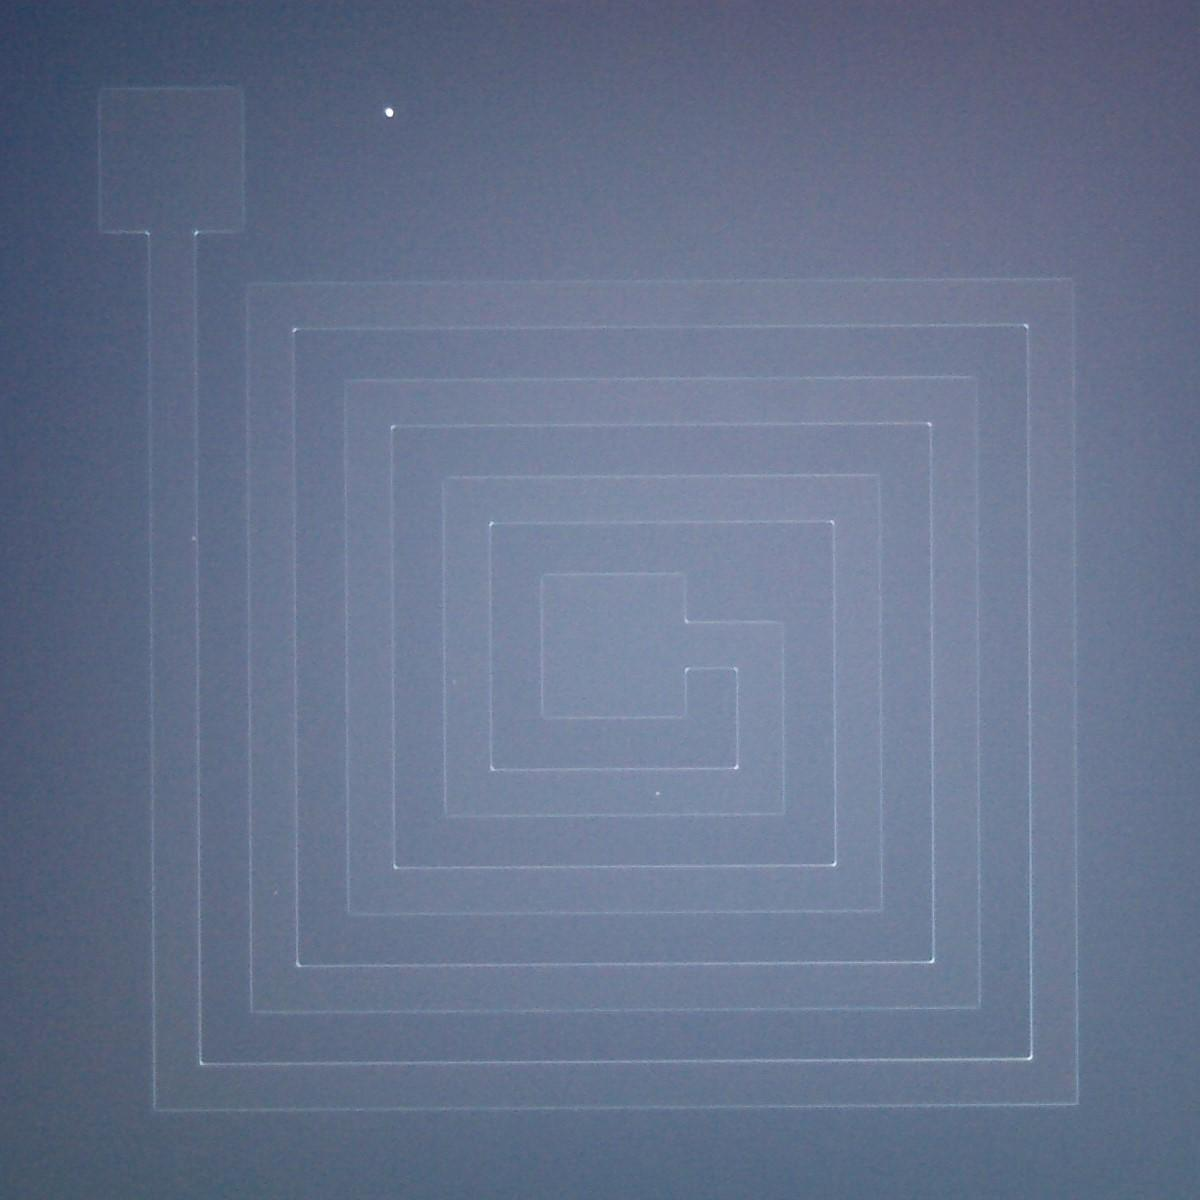B_point: (384, 107, 396, 120)
s_point: (654, 789, 664, 799), (448, 677, 458, 687), (189, 534, 199, 543), (270, 889, 280, 898)
